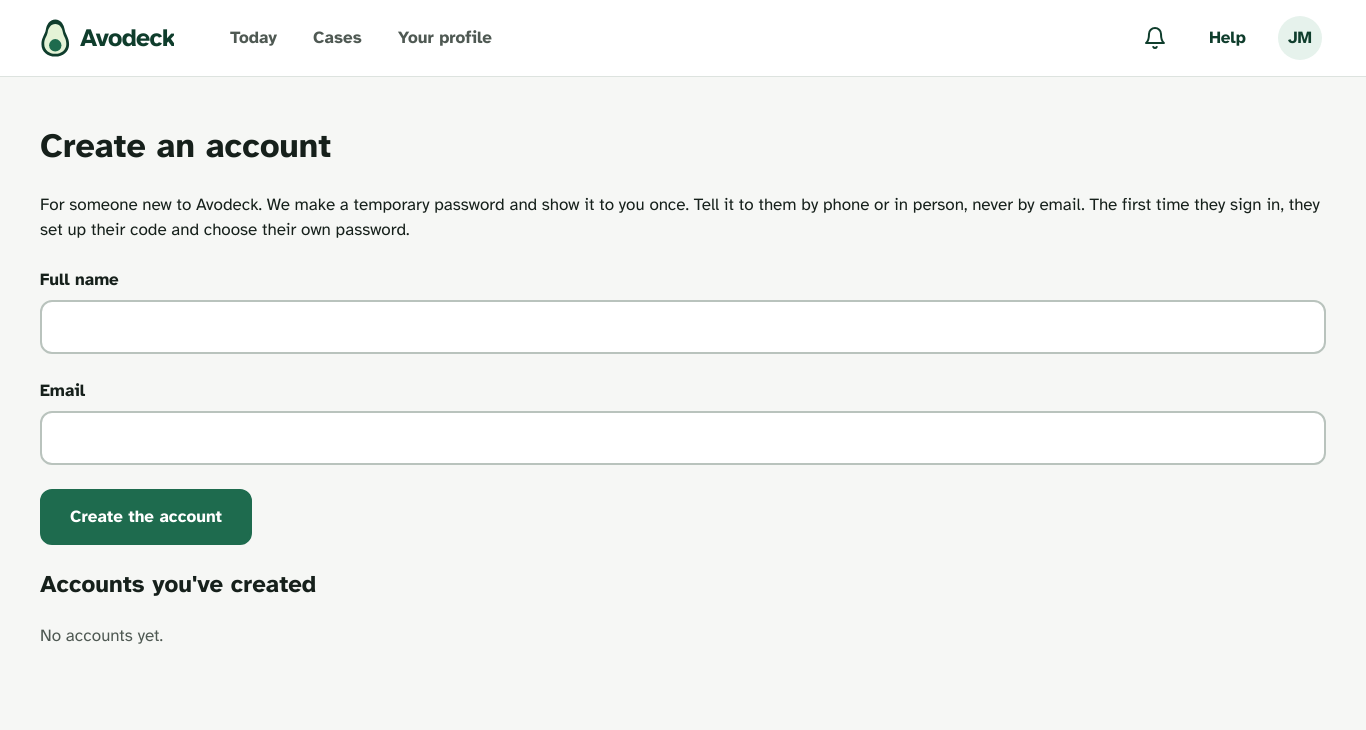
a repeated request that no longer has the password says so
The image size is (1366, 730).
Step 1. Type "Dr New Expert" into the field labelled "Full name" → (683, 327), box [40, 300, 1326, 354]
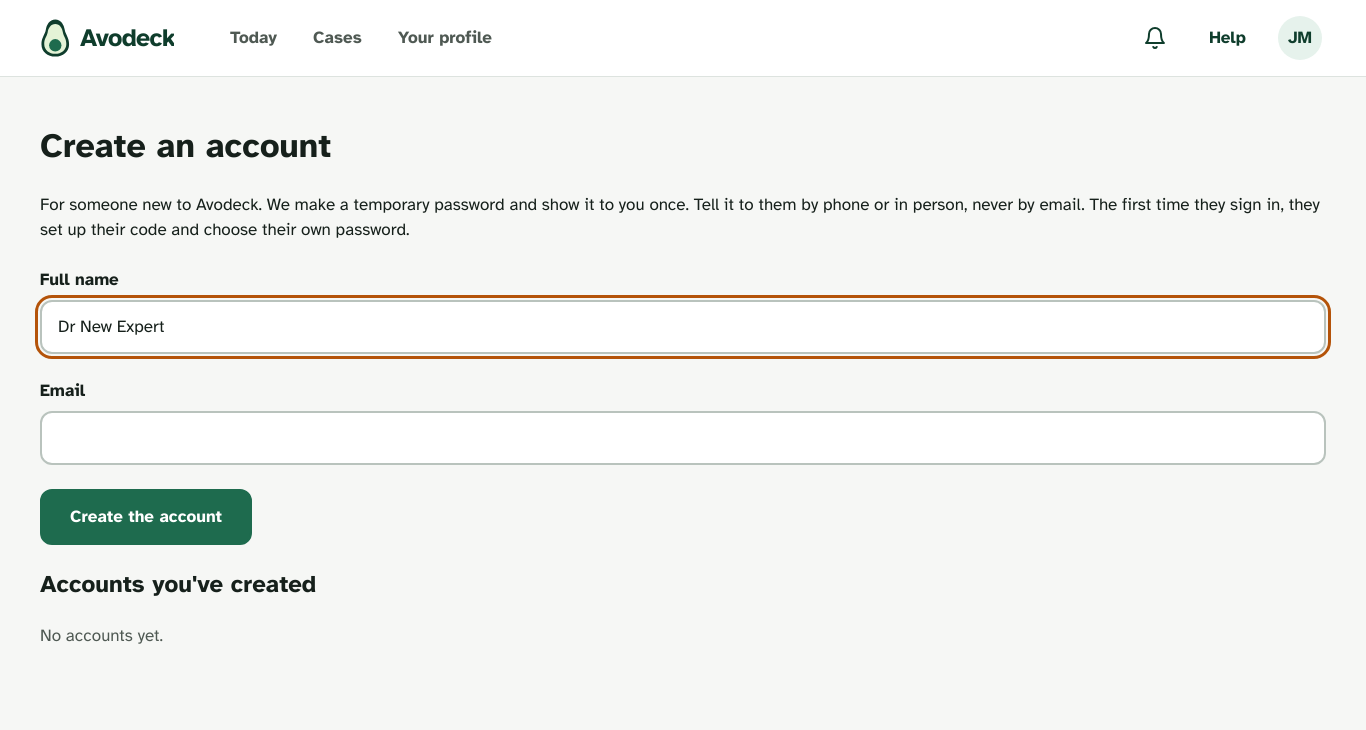
Step 2. Type "new.expert@example.test" into the field labelled "Email" → (683, 438), box [40, 411, 1326, 464]
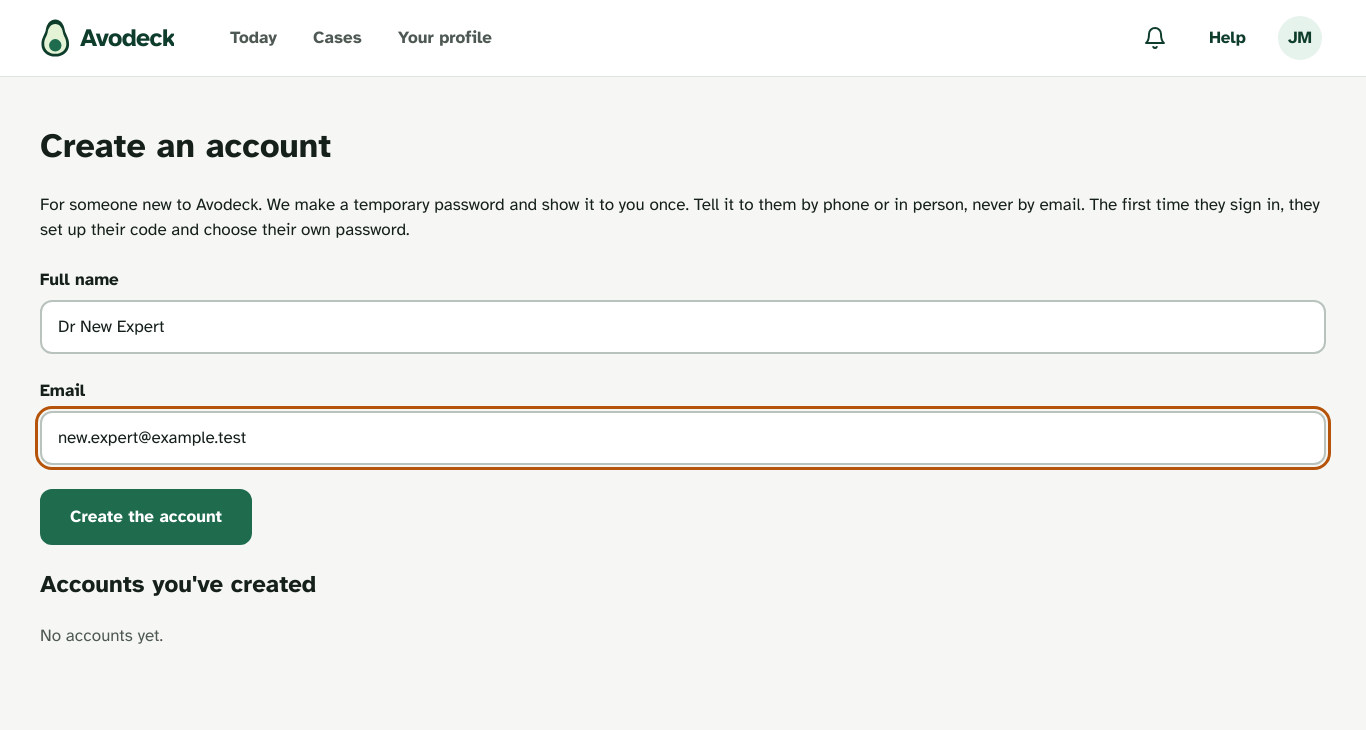
Step 3. Click the button "Create the account" → click(146, 516), box [40, 488, 252, 544]
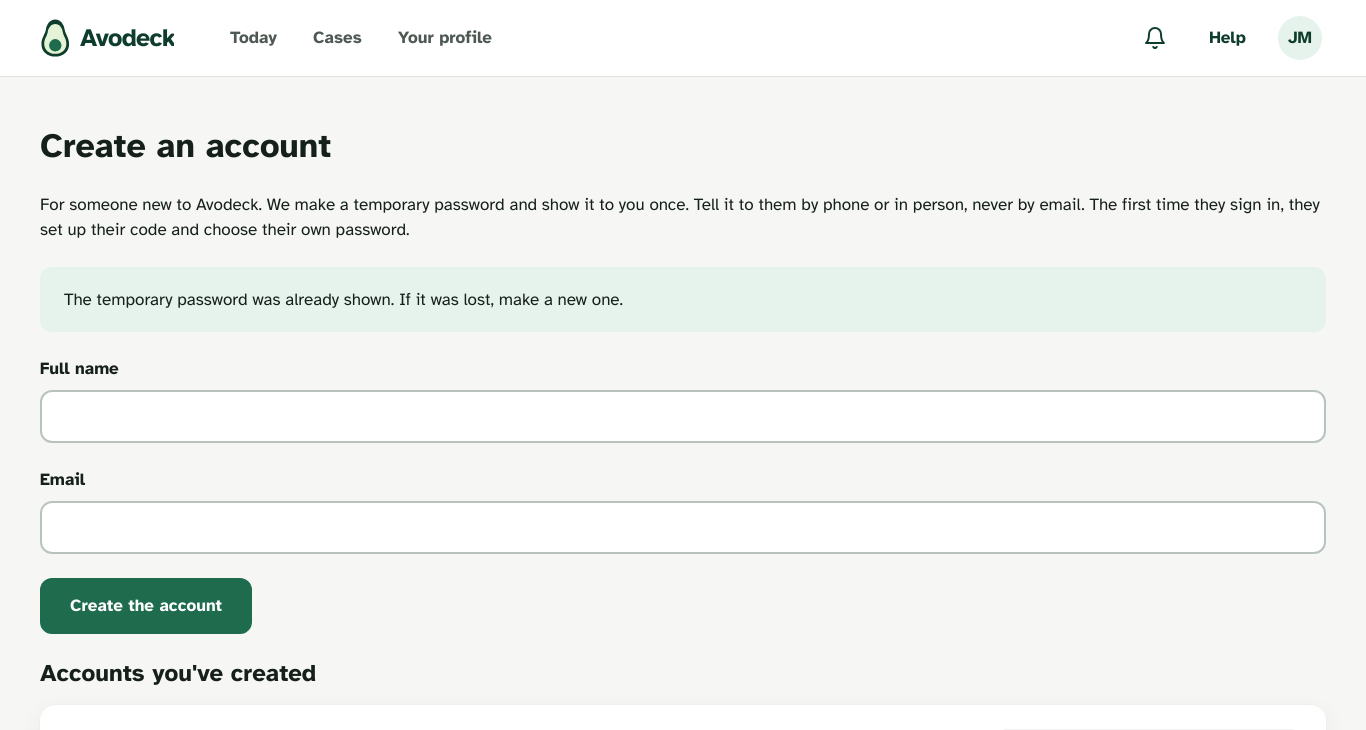
Expected: the text "The temporary password was already shown. If it was lost, make a new one." is shown, [64, 288, 623, 310]
